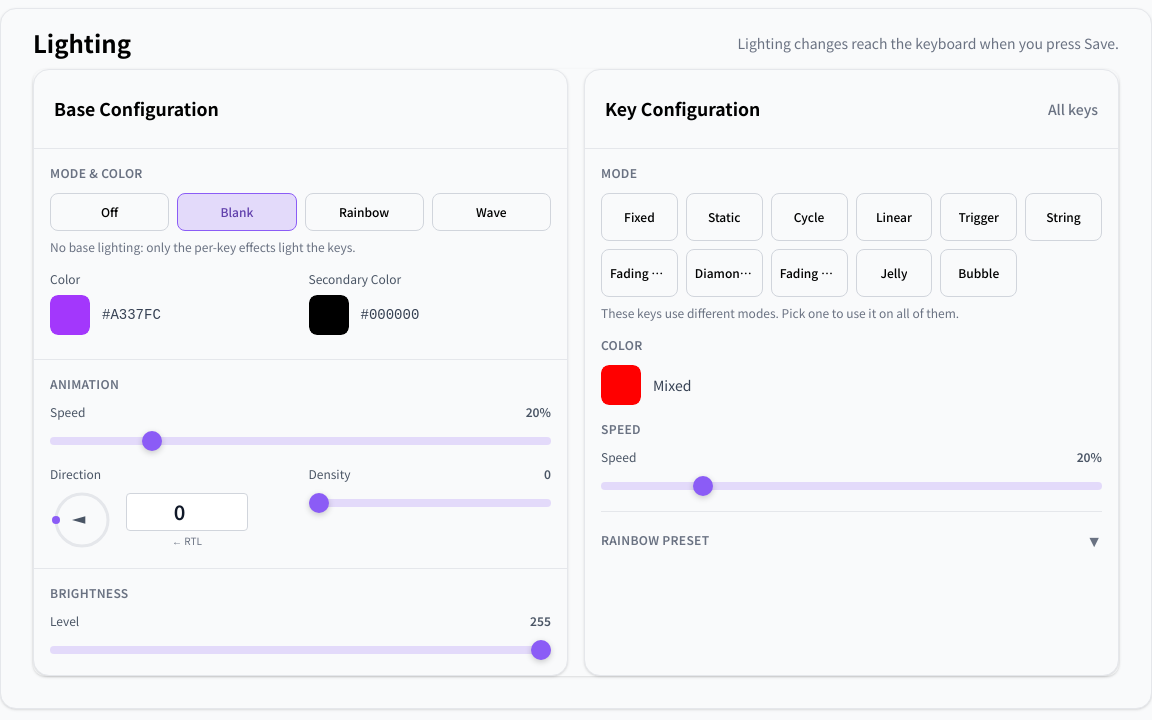
Scenario: LightingPage › edits only the changed field of every key while none is selected
The image size is (1152, 720).
Click the button "Jelly" at (894, 273), box [856,249,932,297]
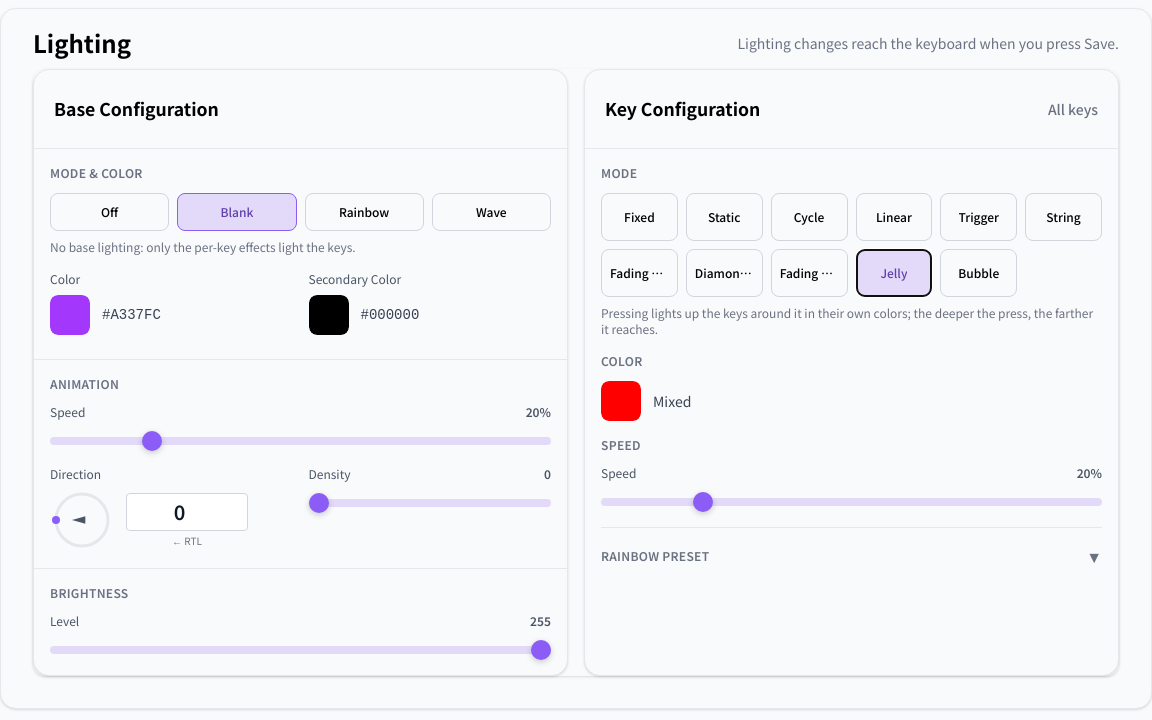
Check: the text "These keys use different modes. Pick one to use it on all of them." is gone
Set the slider named "Speed" below "Mixed" to "70" at (947, 502), box [601,498,1102,506]
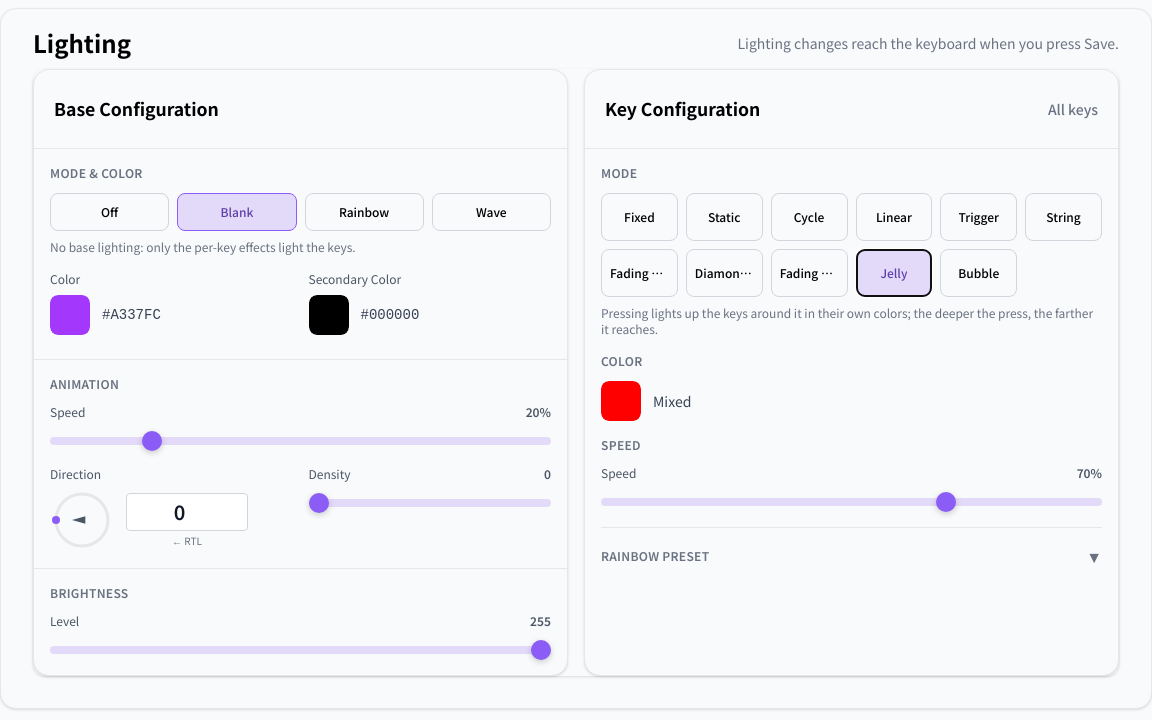
Check: the text "70%" is shown, box [1077,465,1102,481]
